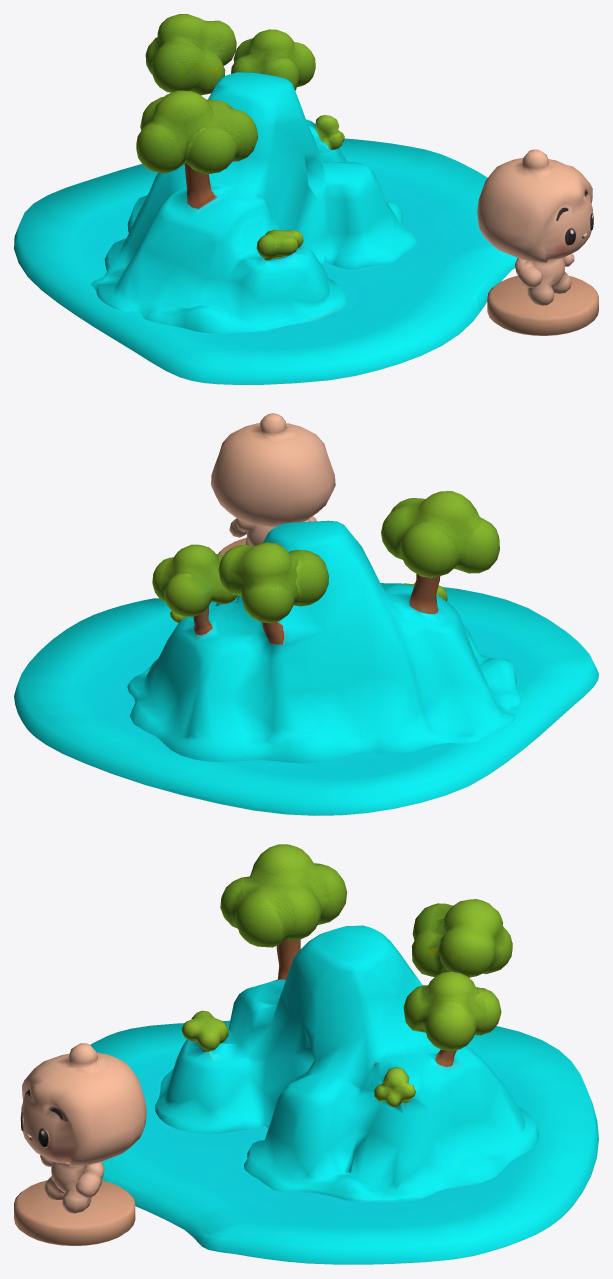
The model's file is viet-envi-3.glb.
3 views of the same model, one above another, from view 1: azimuth 30°, elevation 25°; view 2: azimuth 150°, elevation 25°; view 3: azimuth 270°, elevation 25° (orthographic). The views are drawn at different scales.
Visible parts, largest first — view 1: tripo_node_f3a65681-3bb3-40c8-90c7-86f932dafa79; view 2: tripo_node_f3a65681-3bb3-40c8-90c7-86f932dafa79; view 3: tripo_node_f3a65681-3bb3-40c8-90c7-86f932dafa79.
Boxes of the visible parts, x1,y1,x2,y2 form: tripo_node_f3a65681-3bb3-40c8-90c7-86f932dafa79: [14, 14, 598, 384]; tripo_node_f3a65681-3bb3-40c8-90c7-86f932dafa79: [14, 413, 598, 815]; tripo_node_f3a65681-3bb3-40c8-90c7-86f932dafa79: [14, 844, 598, 1264].
Size of the model in its own units: 0.9487 by 0.4419 by 0.9995.
1 material, 1 textured.
